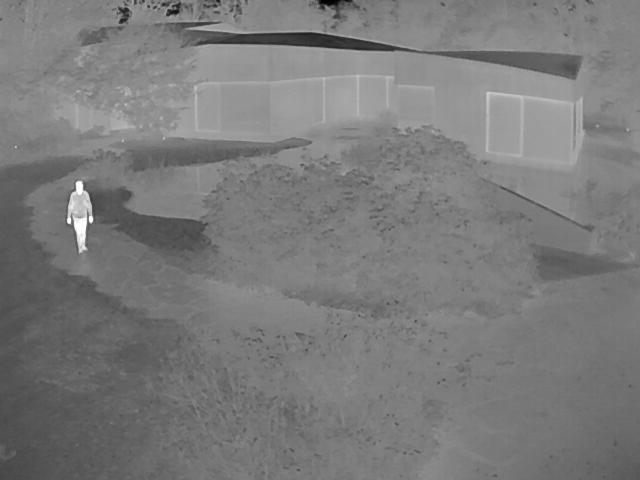person: (67, 180, 95, 253)
